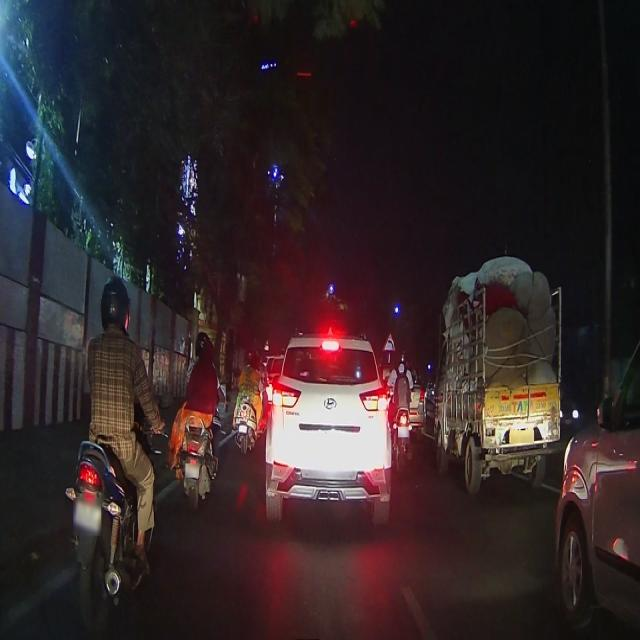left-hand-curve: (381, 326, 396, 355)
